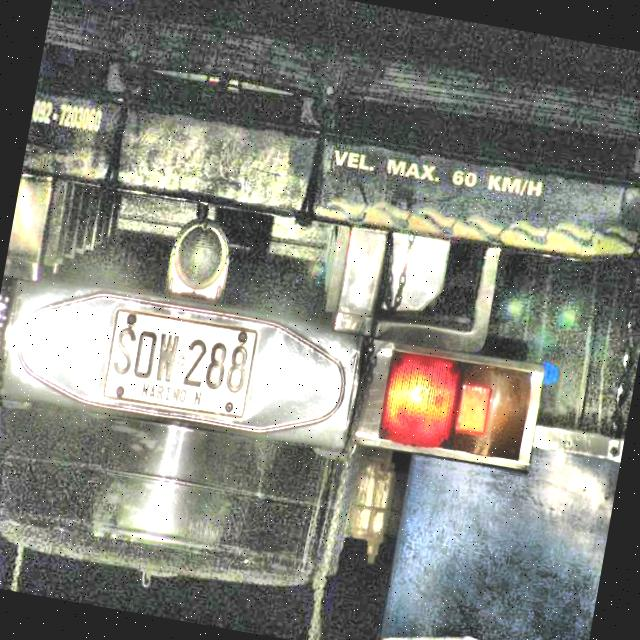2: (180, 336, 210, 389)
8: (222, 342, 252, 396), (202, 340, 230, 392)
O: (130, 328, 160, 380)
S: (110, 325, 140, 377)
W: (150, 330, 182, 385)
